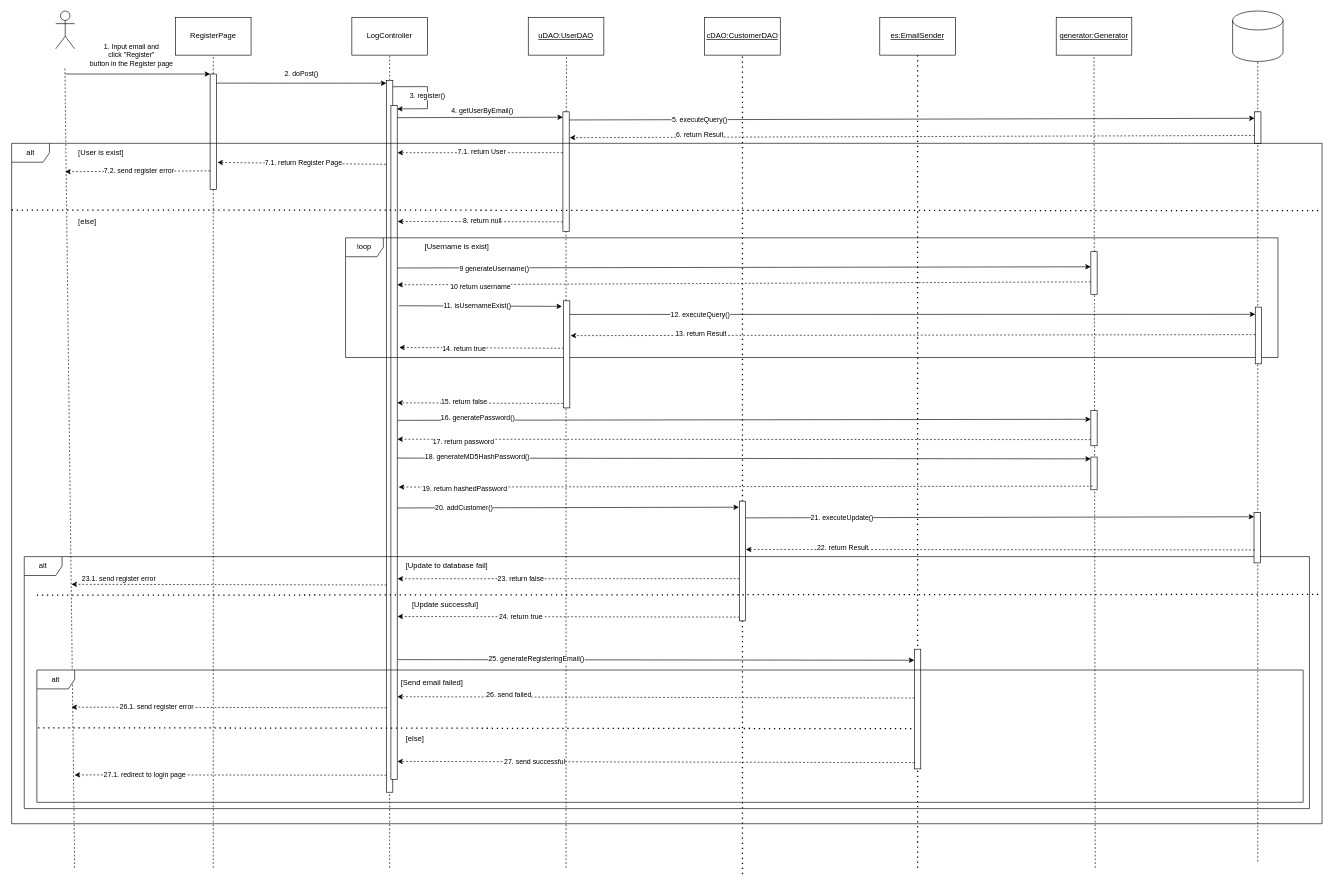
This 1334x886 diagram has some shape labels left out. Each missing label, with the centre of its shape:
"DB" goes at point 1257,35.
"Guest" goes at point 65,29.
